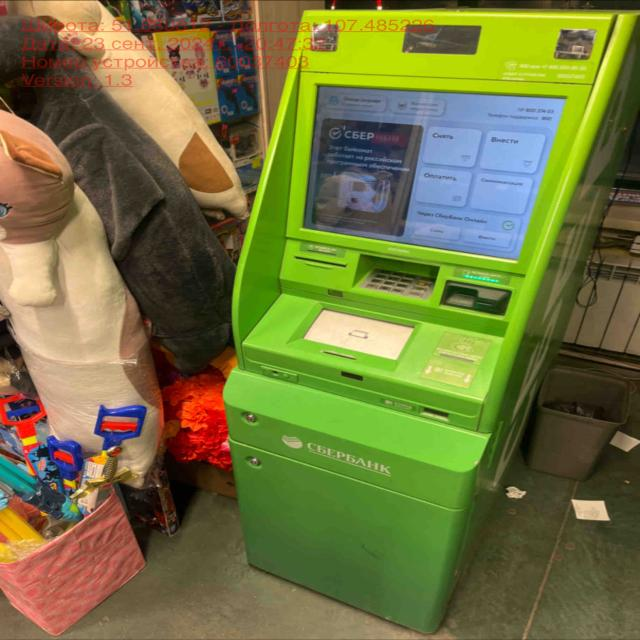bank: (225, 0, 640, 629)
